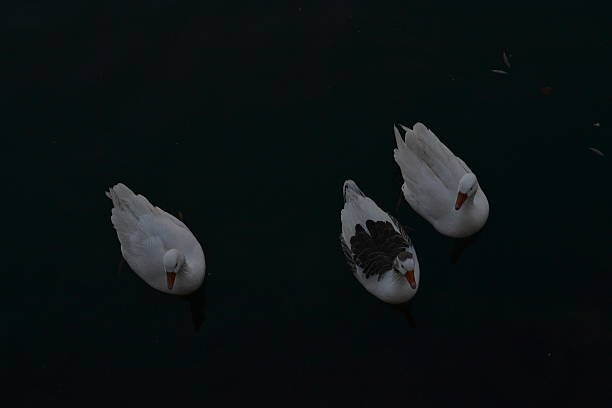goose: (97, 173, 217, 308), (382, 114, 501, 247), (322, 174, 427, 308)
